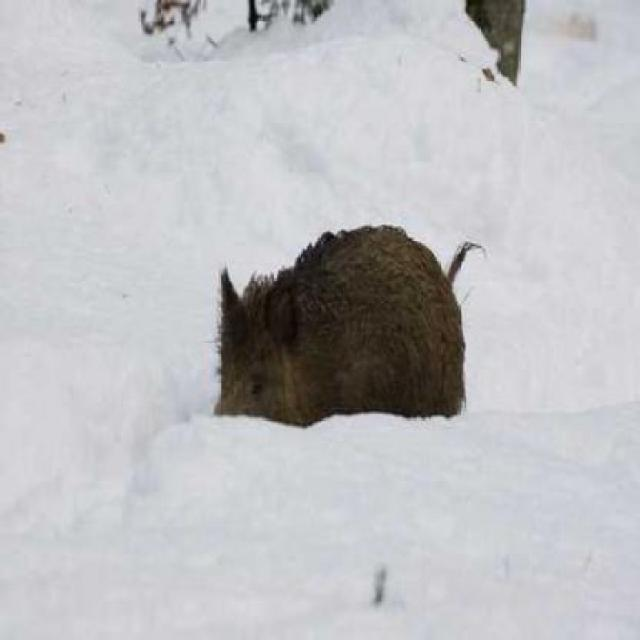pig: (158, 148, 534, 468)
